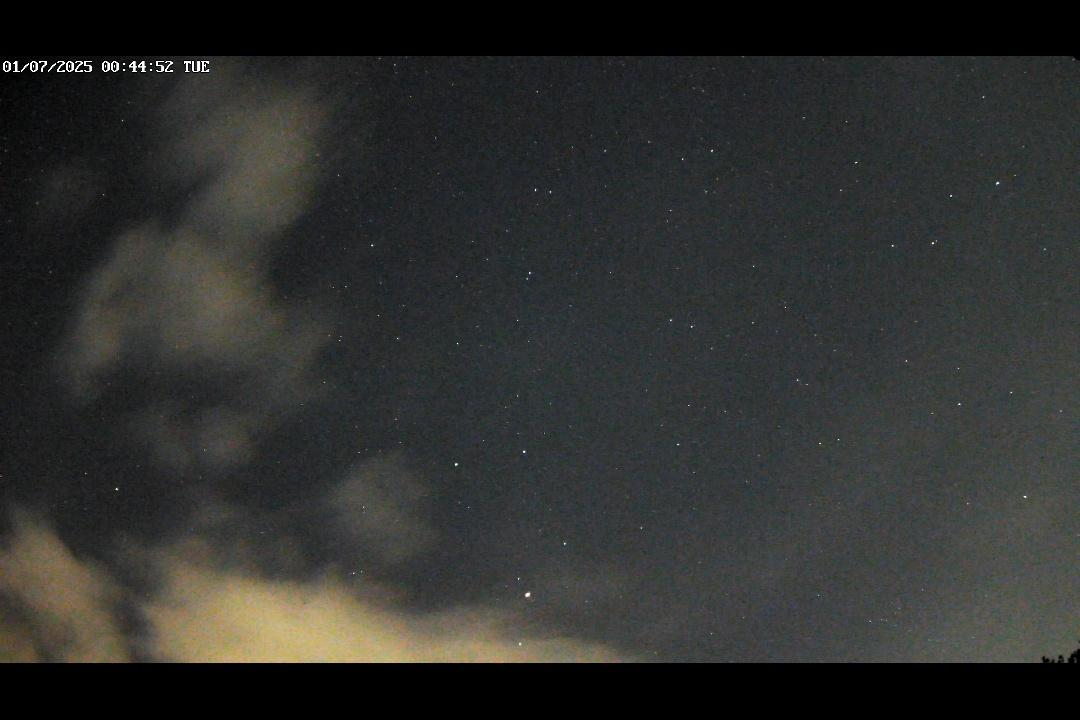Plane: (517, 588, 547, 623)
